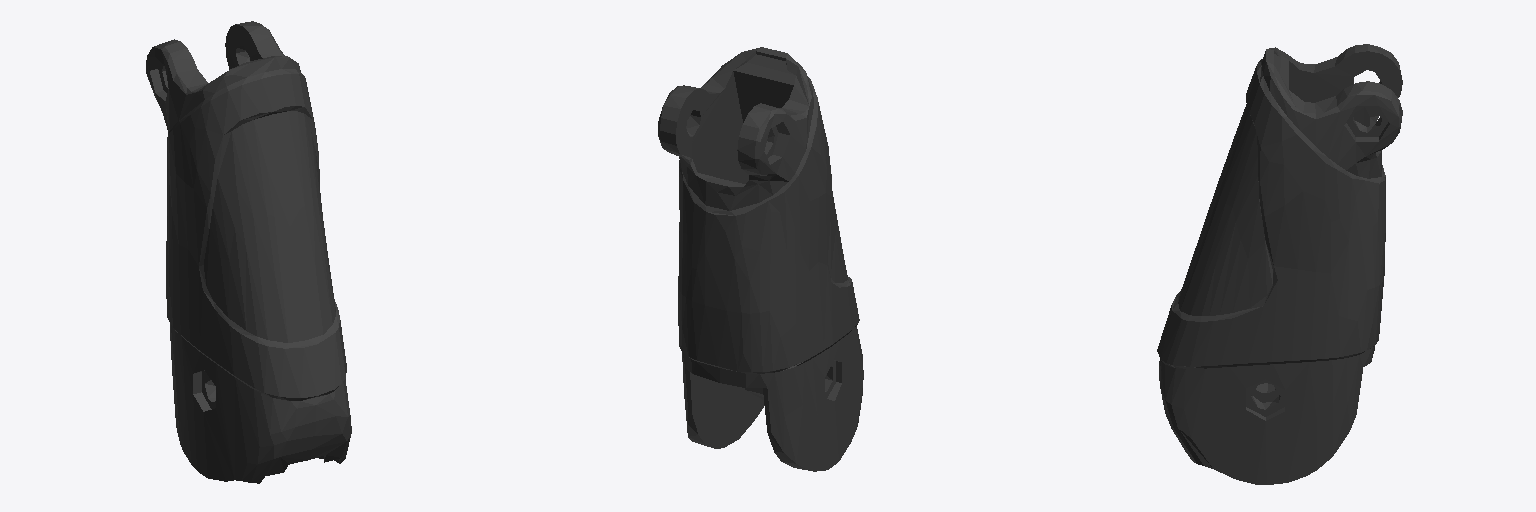
Rendered from L_ring_proximal.obj.
3 renders of one model, left to right at view 1: azimuth 30°, elevation 25°; view 2: azimuth 150°, elevation 25°; view 3: azimuth 270°, elevation 25°, orthographic.
Size of the model in its own units: 0.0143 by 0.0448 by 0.0249.